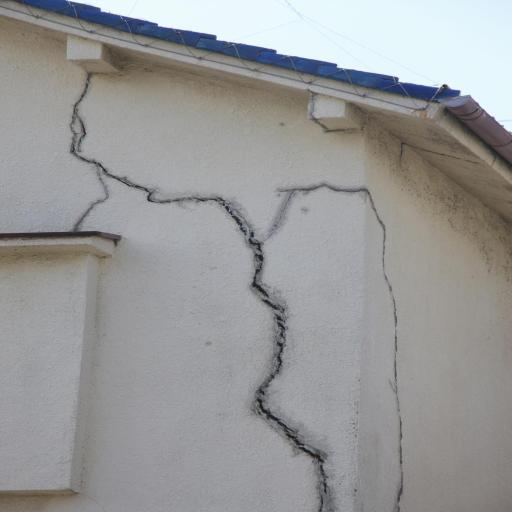spalling: (120, 175, 345, 511), (266, 179, 414, 510), (61, 77, 115, 233)
